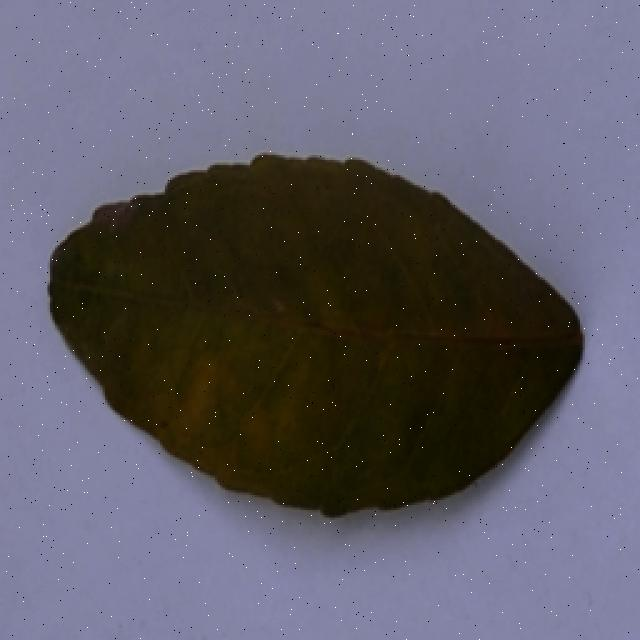greening: (32, 142, 599, 520)
